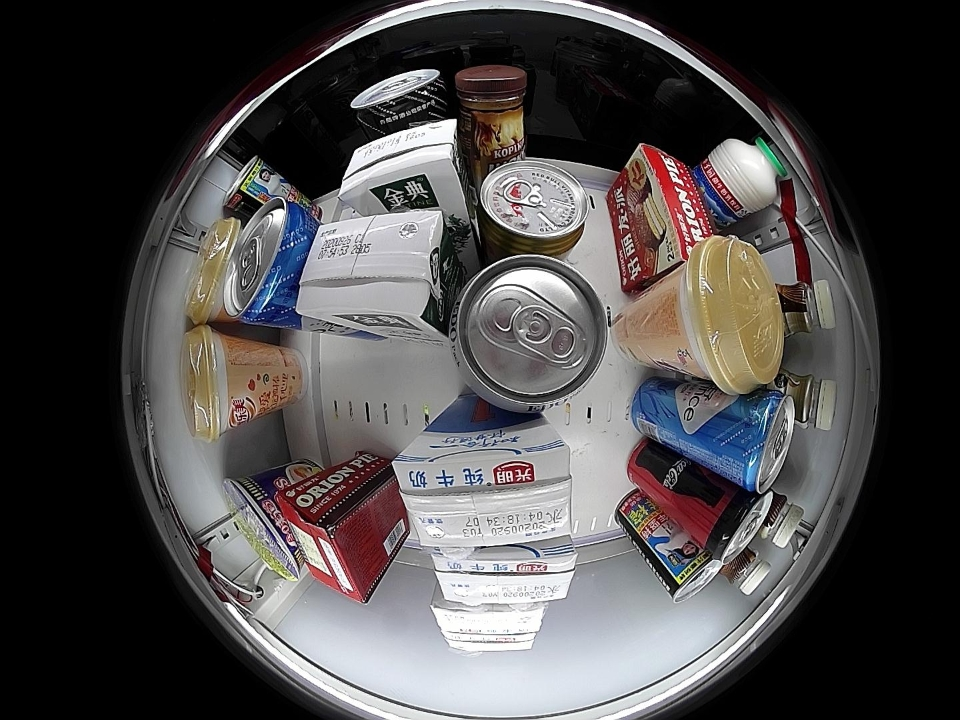haoliyou: (280, 477, 382, 604), (628, 144, 717, 265)
heweidao: (222, 474, 305, 580)
hongniu2: (476, 159, 590, 257)
jindian: (296, 210, 451, 332), (338, 118, 463, 210)
kafei: (771, 370, 837, 431), (775, 278, 836, 338), (720, 543, 772, 596), (756, 492, 803, 548)
lingdukele: (697, 487, 773, 565)
liziyuan: (706, 136, 788, 218)
lujikafei: (456, 63, 530, 153)
niunai: (392, 425, 575, 548), (430, 544, 577, 606), (430, 599, 545, 633), (442, 632, 536, 652)
qingdaowangzi-1: (350, 67, 452, 133)
qingdaowangzi-2: (223, 195, 308, 326), (718, 389, 795, 493)
rusuanjunqishui: (451, 254, 609, 413)
yezhi: (662, 545, 724, 604), (223, 155, 274, 215)
youlemei: (674, 235, 785, 394), (181, 325, 245, 443), (184, 217, 243, 325)
